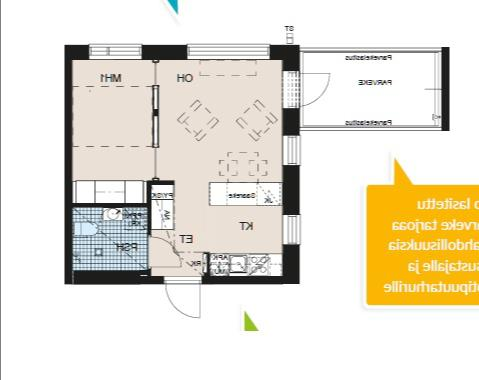door: (282, 71, 332, 110), (162, 276, 202, 319), (144, 235, 182, 270)
window: (182, 42, 273, 62), (84, 42, 146, 64), (280, 210, 303, 248), (280, 134, 302, 169)
